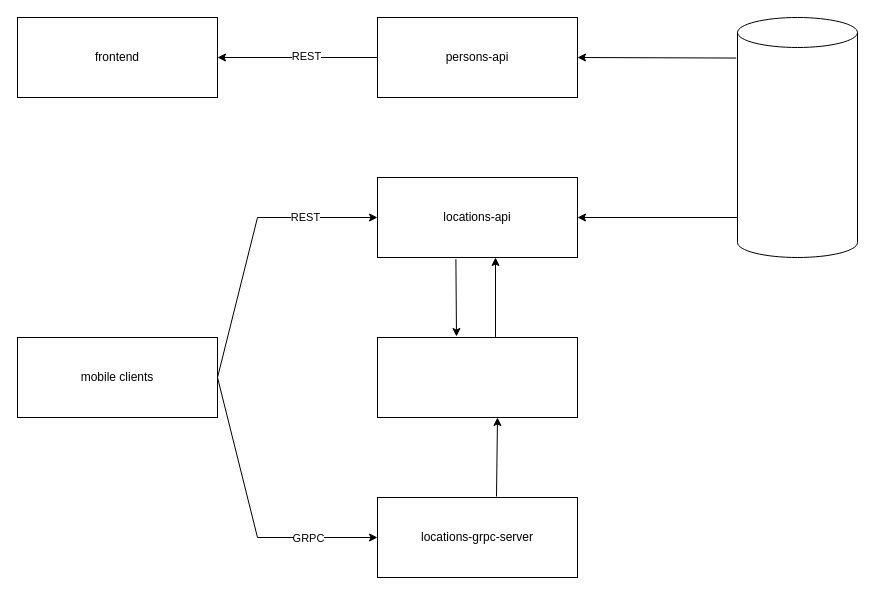
Some shapes in this 875 by 595 pixel diagram are drawn without their labels. The centre of each missing label's shape, as x and y in pixels:
"DATABASE" belongs at point 797,137.
"Kafka Server" belongs at point 477,377.
